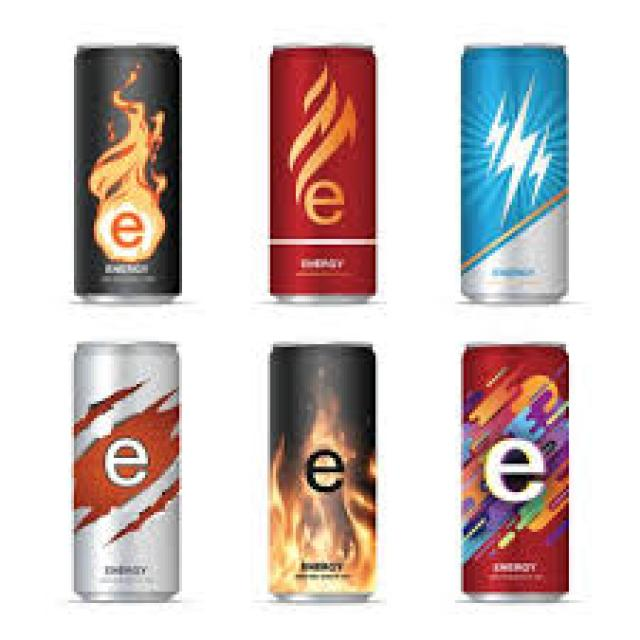Cans: (63, 34, 196, 313), (450, 333, 580, 609), (68, 333, 194, 617), (259, 34, 387, 313), (455, 34, 578, 313), (262, 336, 387, 608)
